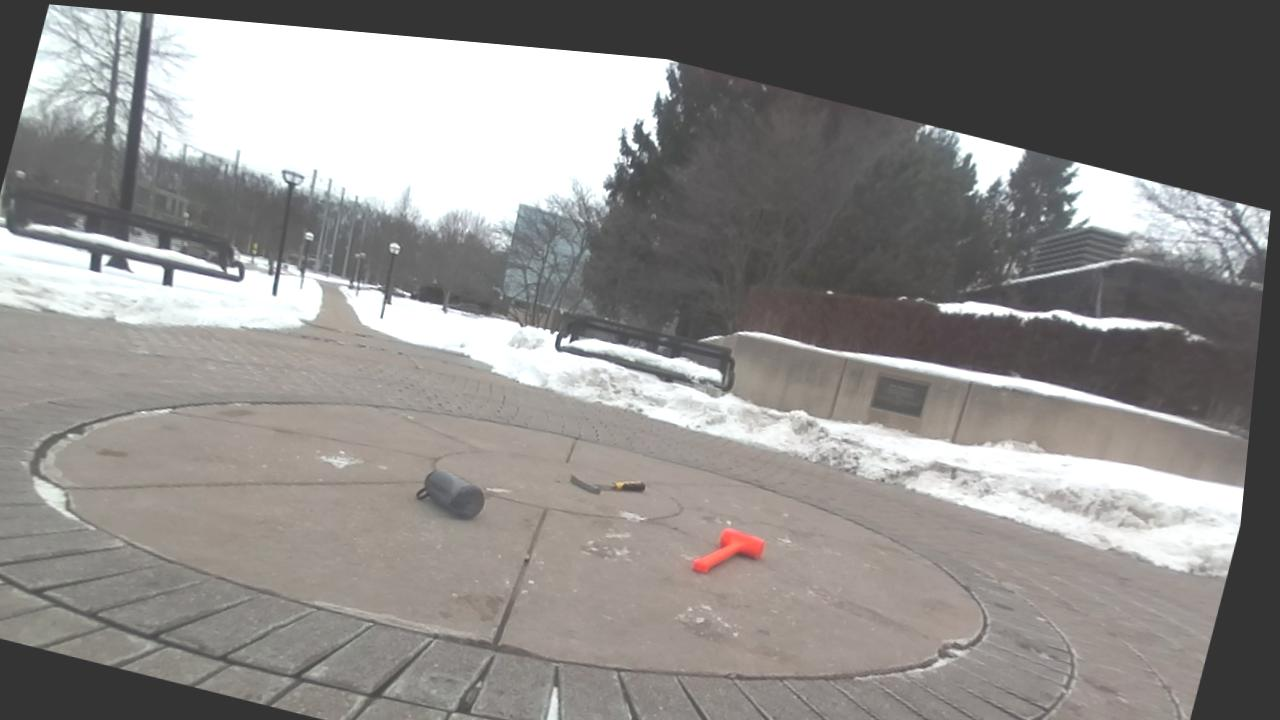bottle: (417, 469, 483, 518)
mallet: (693, 529, 764, 572)
pick: (570, 474, 646, 493)
